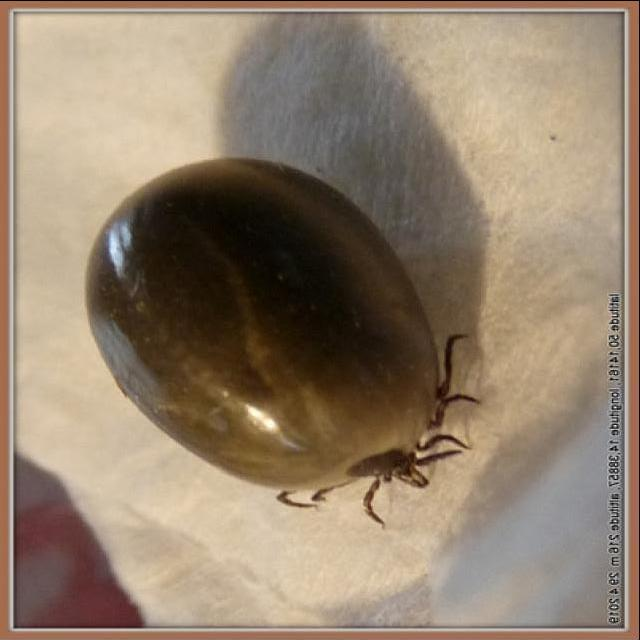Ixodes Ricinus-F-Fed: (86, 157, 484, 531)
